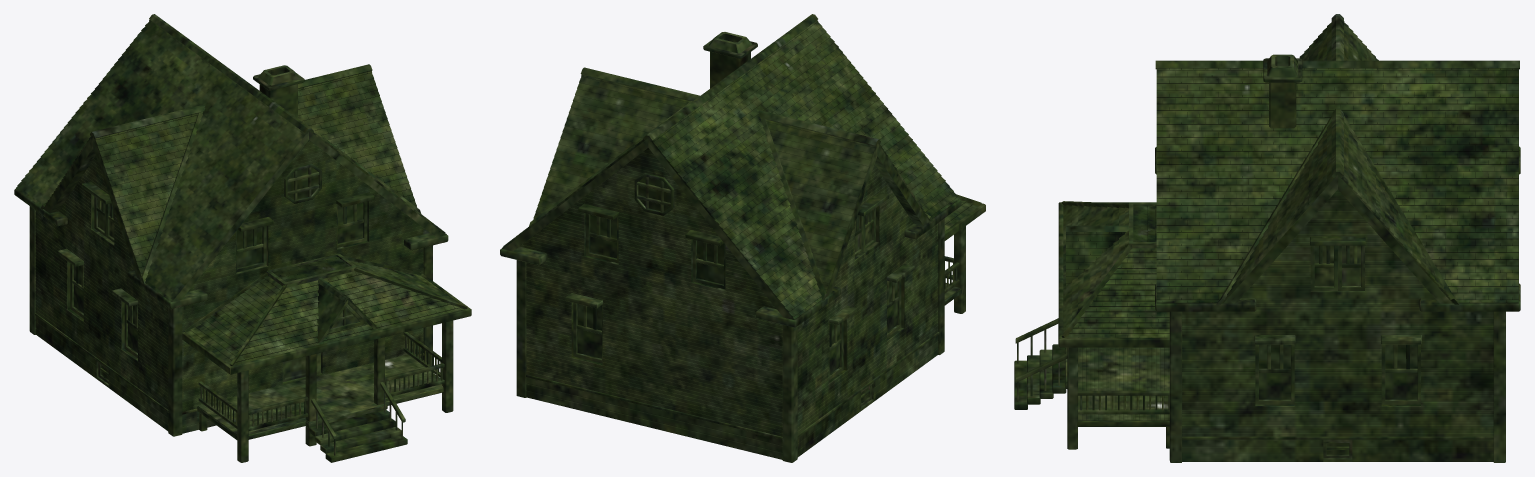
Rendered from house.fbx.
The picture shows the model from 3 angles, left to right: view 1: azimuth 30°, elevation 25°; view 2: azimuth 150°, elevation 25°; view 3: azimuth 270°, elevation 25°; orthographic projection. The views are drawn at different scales.
Visible parts, largest first — view 1: home.1; view 2: home.1; view 3: home.1.
Boxes of the visible parts, x1=… form: home.1: x1=14, y1=14, x2=471, y2=462; home.1: x1=500, y1=14, x2=985, y2=462; home.1: x1=1014, y1=14, x2=1520, y2=462.
Size of the model in its own units: 605 by 606 by 816.
